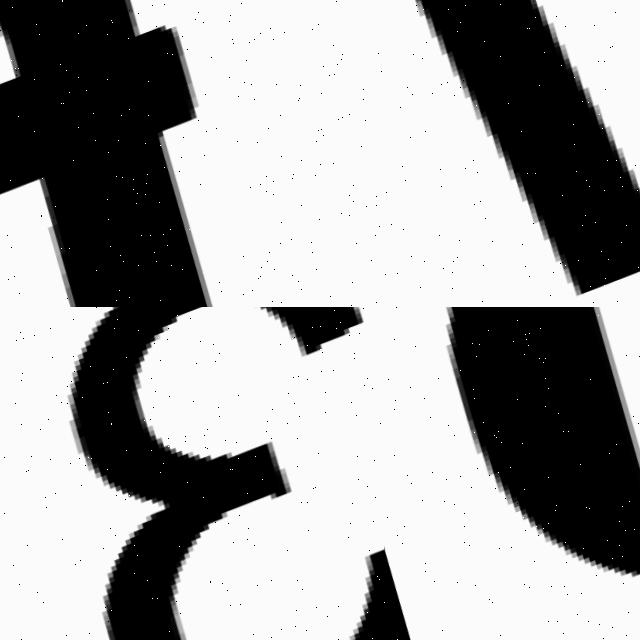1: (384, 0, 640, 307)
3: (0, 307, 384, 640)
F: (0, 0, 307, 307)
O: (452, 307, 640, 582)
